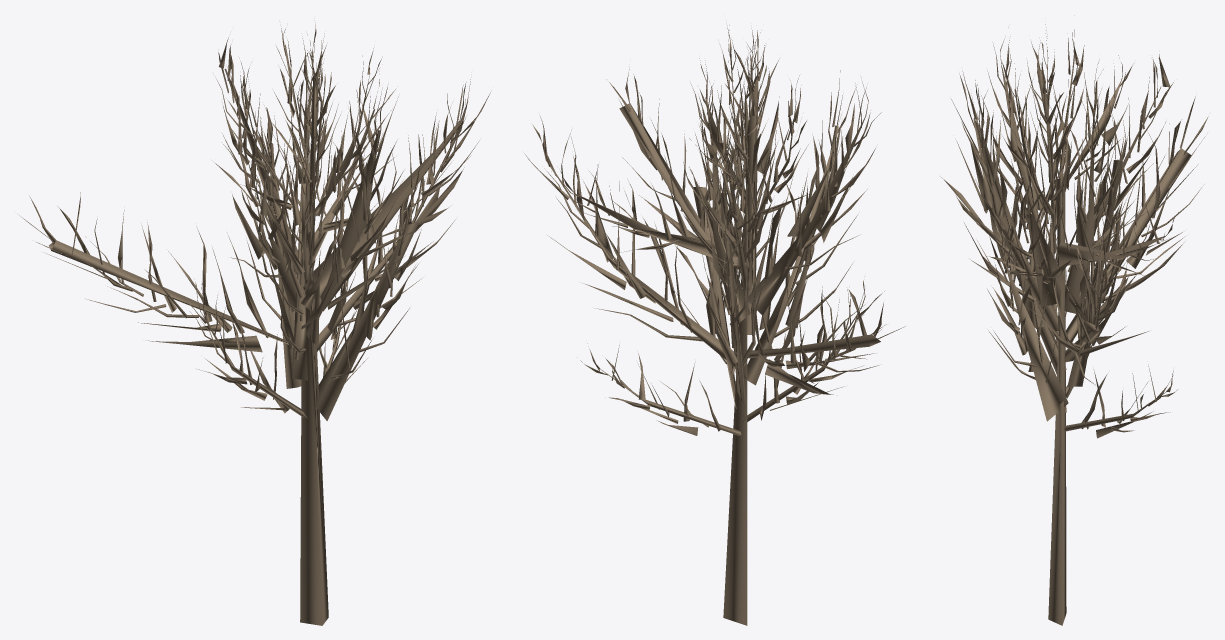
Rendered from Oak_01_LOD1.fbx.
3 renders of one model, left to right at view 1: azimuth 30°, elevation 25°; view 2: azimuth 150°, elevation 25°; view 3: azimuth 270°, elevation 25°, orthographic. The views are drawn at different scales.
Visible parts, largest first — view 1: Oak; view 2: Oak; view 3: Oak.
Part boxes in pixels (x1,y1,x2,y2): Oak: (19, 20, 491, 625); Oak: (524, 25, 904, 625); Oak: (941, 15, 1208, 625).
Bounding box in the file's own units: 785 × 1069 × 448.
